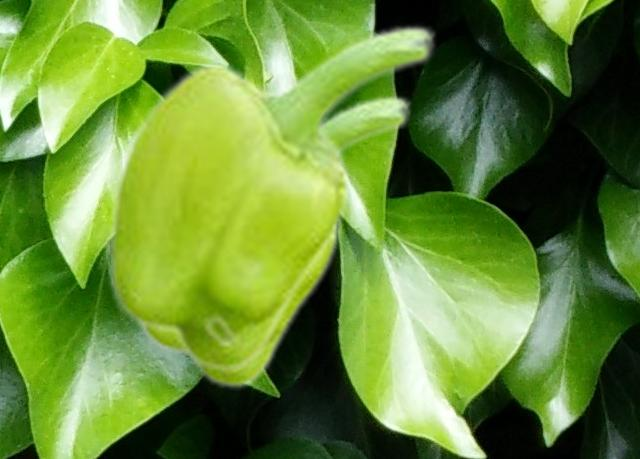bell_pepper: (105, 22, 437, 373), (132, 93, 412, 389)
